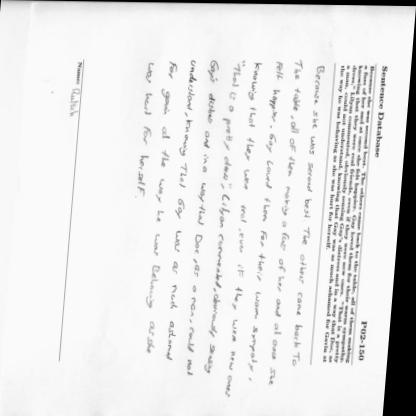Handwritten text: (267, 54, 309, 397), (162, 39, 204, 372), (247, 50, 289, 378), (227, 54, 266, 402), (205, 60, 246, 389), (186, 53, 225, 391), (142, 57, 182, 381), (292, 62, 330, 370), (127, 56, 160, 206)
